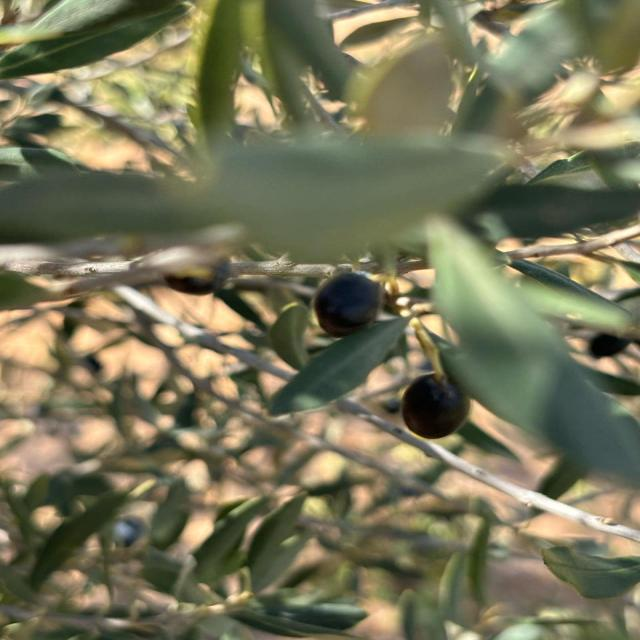Healthy: (313, 272, 384, 338), (401, 374, 469, 439)
